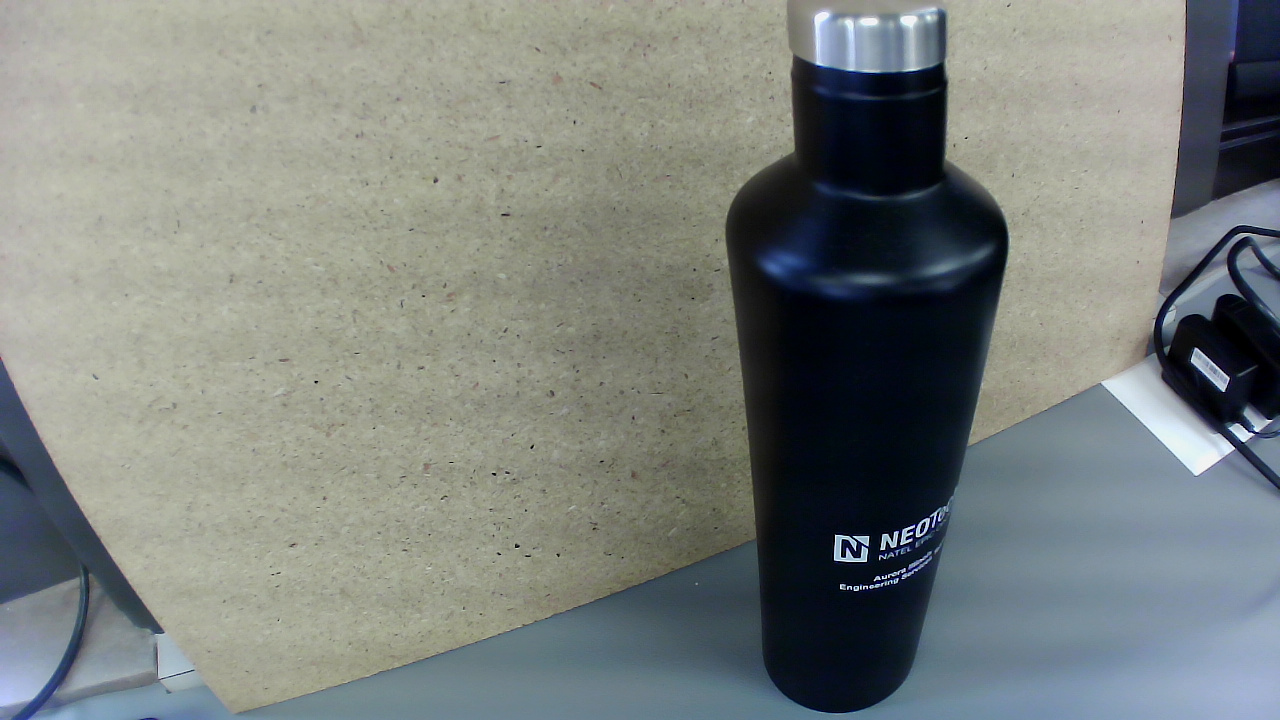neobottle: (717, 2, 1013, 715)
